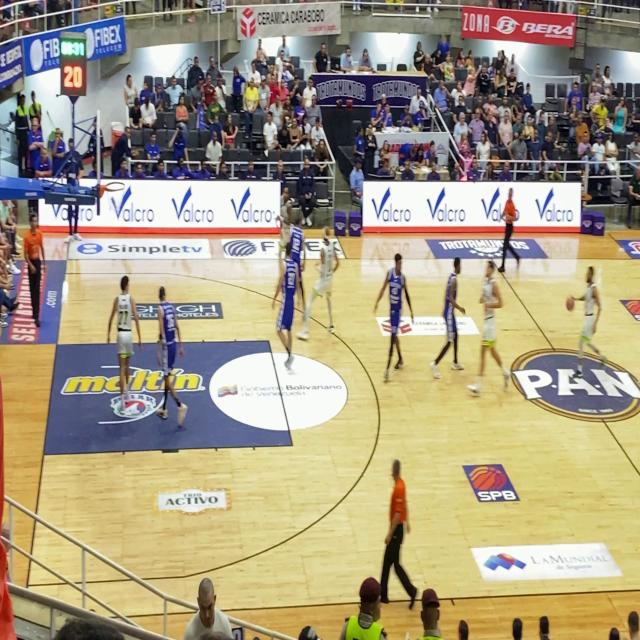Ball: (564, 292, 578, 318)
referee: (377, 451, 419, 611), (16, 197, 50, 343), (493, 169, 529, 276)
team1: (467, 252, 514, 402), (103, 264, 145, 421), (302, 218, 338, 347), (574, 254, 610, 376), (277, 184, 292, 262)
team2: (149, 279, 192, 429), (373, 248, 417, 392), (428, 250, 468, 385), (270, 239, 300, 370), (287, 208, 307, 284)
ubasket: (105, 176, 126, 212)
